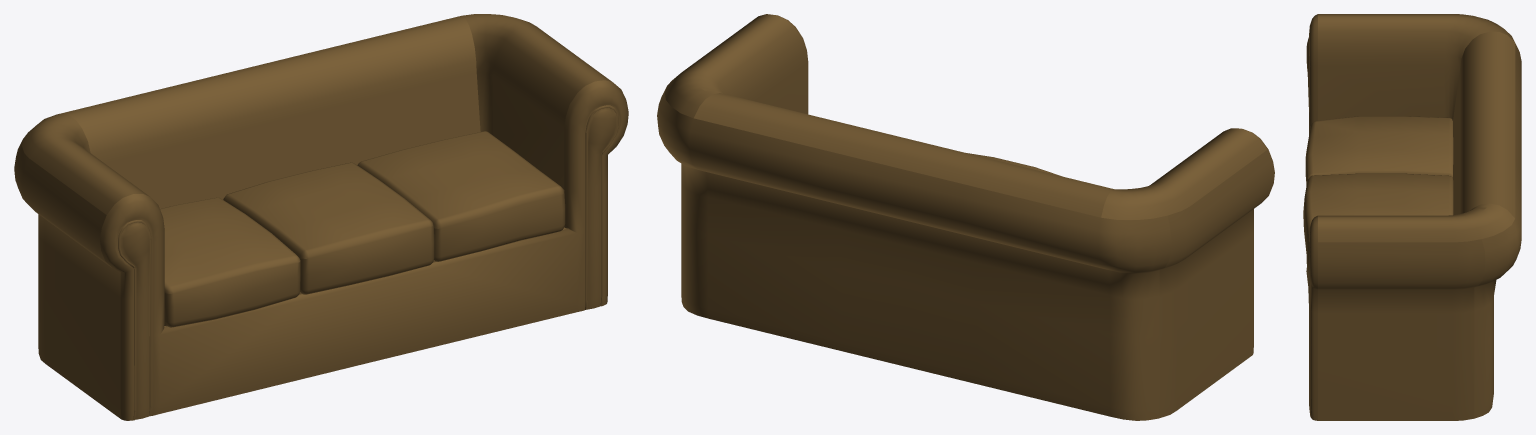
The model's file is sofa 3 seats brown.fbx.
3 views of the same model, side by side, from view 1: azimuth 30°, elevation 25°; view 2: azimuth 150°, elevation 25°; view 3: azimuth 270°, elevation 25° (orthographic). The views are drawn at different scales.
Visible parts, largest first — view 1: couch_long:Couch_long; view 2: couch_long:Couch_long; view 3: couch_long:Couch_long.
Boxes of the visible parts, x1,y1,x2,y2 form: couch_long:Couch_long: (14,14,628,420); couch_long:Couch_long: (657,14,1274,420); couch_long:Couch_long: (1303,14,1521,420).
Size of the model in its own units: 497 by 200 by 200.
